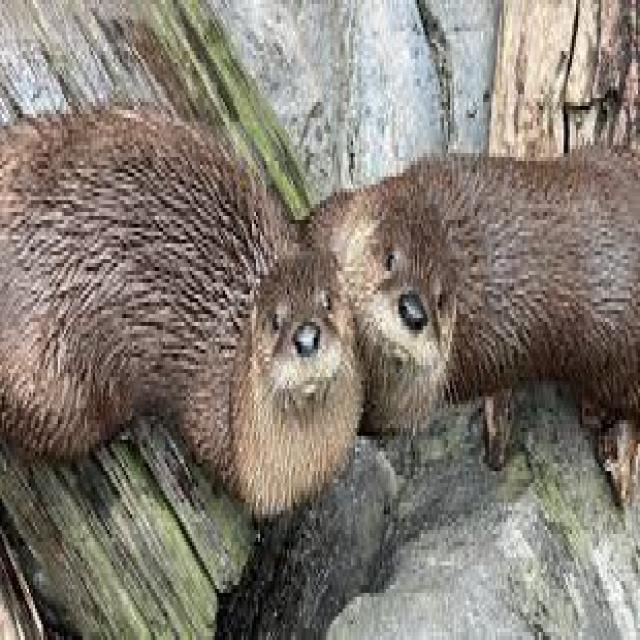Otter: (0, 94, 353, 503), (339, 138, 640, 469)
